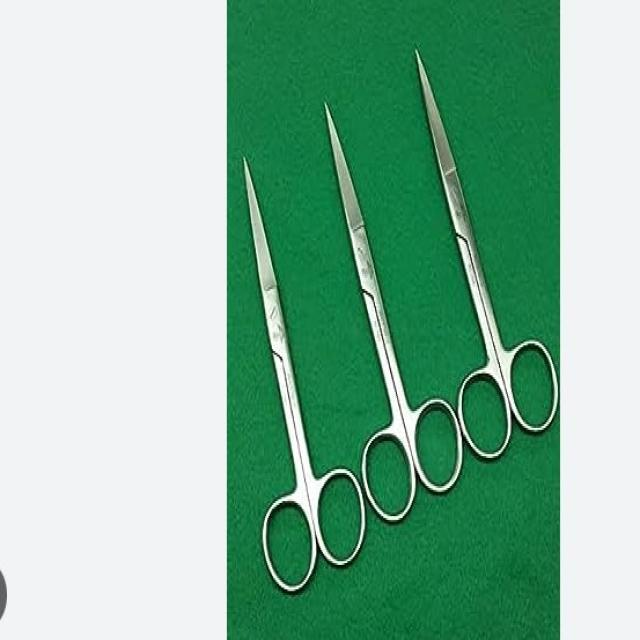Straight Mayo: (316, 99, 465, 534), (411, 40, 558, 463), (236, 152, 364, 594)
